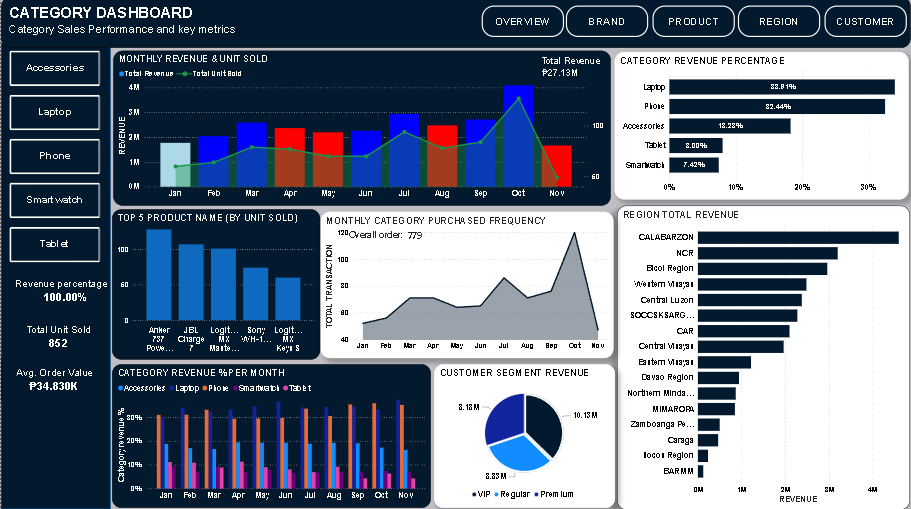

Layout of this report page (visuals, bound fields, positions):
{"tool":"powerbi","page":{"name":"CATEGORY","canvas":[1920,1080],"ordinal":1},"visuals":[{"type":"shape","box":[0,0,1920,107],"z":0,"group":"g1"},{"type":"shape","box":[0,97.8,231.4,982.9],"z":0},{"type":"actionButton","box":[1374.2,19.1,174.1,66.8],"z":1000,"group":"g1"},{"type":"advancedSlicerVisual","fields":{"Values":["public product.category"]},"box":[12.1,107,202.8,470],"z":1000},{"type":"actionButton","box":[1555.5,19.1,174.1,66.8],"z":2000,"group":"g1"},{"type":"clusteredBarChart","title":"REGION TOTAL REVENUE","fields":{"Category":["public customer.region"],"Y":["public order_items.Total Revenue"]},"box":[1300.3,439,617.9,641.8],"z":2000},{"type":"actionButton","box":[1736.9,19.1,174.1,66.8],"z":3000,"group":"g1"},{"type":"clusteredColumnChart","title":"CATEGORY REVENUE % PER MONTH","fields":{"Category":["public order_receipts.Month Name"],"Y":["public customer.Category revenue %"],"Series":["public product.category"]},"box":[233.8,775.4,673,303],"z":3000},{"type":"actionButton","box":[1192.9,19.1,174.1,66.8],"z":4000,"group":"g1"},{"type":"lineChart","title":"MONTHLY CATEGORY PURCHASED FREQUENCY","fields":{"Category":["public order_receipts.Month Name"],"Y":["public customer.Total Completed Transaction"]},"box":[674.5,452.4,617.9,309],"z":4000},{"type":"textbox","box":[11.9,9.5,536.8,97.5],"z":5000,"group":"g1"},{"type":"pieChart","title":"CUSTOMER SEGMENT REVENUE","fields":{"Category":["public customer.customer_segment"],"Y":["public order_items.Total Revenue"]},"box":[913.8,775.4,381.7,303],"z":5000},{"type":"group","id":"g1","title":"Group 1","box":[0,0,1920,107],"z":6000},{"type":"actionButton","box":[1014,19.1,174.1,66.8],"z":6000,"group":"g1"},{"type":"group","id":"g2","title":"Group 2","box":[236.3,103,1064.2,337.2],"z":7000},{"type":"lineClusteredColumnComboChart","title":"MONTHLY REVENUE & UNIT SOLD","fields":{"Category":["public order_receipts.Month Name"],"Y":["public order_items.Total Revenue"],"Y2":["public order_items.Total Unit Sold"]},"box":[236.3,113.1,1050.1,327.1],"z":8000,"group":"g2"},{"type":"clusteredBarChart","title":"CATEGORY REVENUE PERCENTAGE","fields":{"Category":["public product.category"],"Y":["public customer.Category revenue %"]},"box":[1294.1,116.6,620.8,311.8],"z":8000},{"type":"cardVisual","fields":{"Data":["public order_items.Total Quantity"]},"box":[9.5,665.6,222.1,101],"z":9000},{"type":"cardVisual","fields":{"Data":["public customer.Avg. Order Value"]},"box":[0,761.3,226.2,92.9],"z":10000},{"type":"cardVisual","fields":{"Data":["public customer.Revenue percentage","public customer.Revenue percentage"]},"box":[0,577.4,274.4,88.2],"z":11000},{"type":"clusteredColumnChart","title":"TOP 5 PRODUCT NAME (BY UNIT SOLD)","fields":{"Category":["public product.product_name"],"Y":["public order_items.Total Unit Sold"]},"box":[233.8,448.5,439,317.3],"z":12000},{"type":"cardVisual","title":"Overall order","fields":{"Data":["public customer.Purchased count"]},"box":[828,474.6,107,58.6],"z":13000},{"type":"textbox","box":[729,484.7,141.3,36.3],"z":14500},{"type":"cardVisual","fields":{"Data":["public order_items.Total Revenue"]},"box":[1112.7,103,187.8,92.9],"z":15001,"group":"g2"}]}

Visuals, with their boxes in screenshot pixels (x1, y1, x2, y2), scaled from the page's 1920x1080 canvas onto the 911x509 screenshot:
shape: 0, 0, 910, 50
shape: 0, 46, 110, 508
actionButton: 652, 9, 735, 40
advancedSlicerVisual - public product.category: 6, 50, 102, 272
actionButton: 738, 9, 821, 40
"REGION TOTAL REVENUE" clusteredBarChart: 617, 207, 910, 508
actionButton: 824, 9, 907, 40
"CATEGORY REVENUE % PER MONTH" clusteredColumnChart: 111, 365, 430, 508
actionButton: 566, 9, 649, 40
"MONTHLY CATEGORY PURCHASED FREQUENCY" lineChart: 320, 213, 613, 359
textbox: 6, 4, 260, 50
"CUSTOMER SEGMENT REVENUE" pieChart: 434, 365, 615, 508
"Group 1" group: 0, 0, 910, 50
actionButton: 481, 9, 564, 40
"Group 2" group: 112, 49, 617, 207
"MONTHLY REVENUE & UNIT SOLD" lineClusteredColumnComboChart: 112, 53, 610, 207
"CATEGORY REVENUE PERCENTAGE" clusteredBarChart: 614, 55, 909, 202
cardVisual - public order_items.Total Quantity: 5, 314, 110, 361
cardVisual - public customer.Avg. Order Value: 0, 359, 107, 403
cardVisual - public customer.Revenue percentage x public customer.Revenue percentage: 0, 272, 130, 314
"TOP 5 PRODUCT NAME (BY UNIT SOLD)" clusteredColumnChart: 111, 211, 319, 361
"Overall order" cardVisual: 393, 224, 444, 251
textbox: 346, 228, 413, 246
cardVisual - public order_items.Total Revenue: 528, 49, 617, 92
